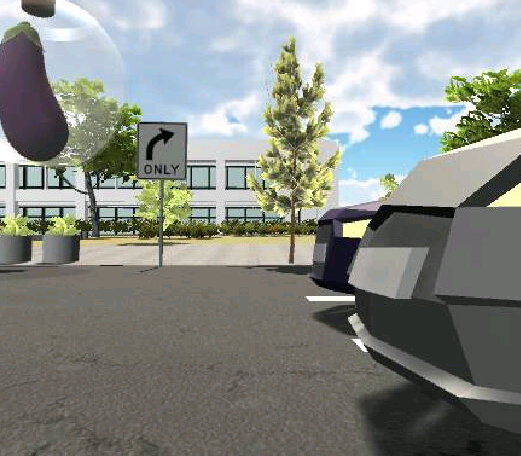turn_right: (146, 127, 181, 161)
